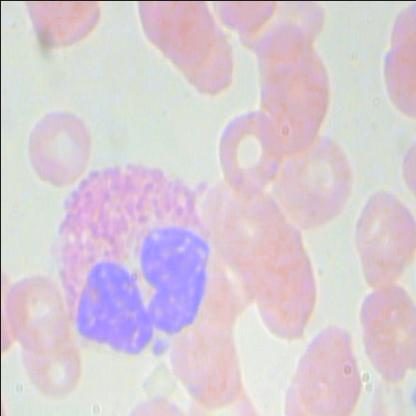RBC: (273, 130, 354, 226), (346, 278, 415, 385), (347, 276, 415, 384), (210, 110, 286, 194), (11, 312, 87, 396), (23, 107, 98, 190), (345, 187, 415, 274), (0, 268, 70, 352)
WBC: (46, 156, 214, 360)
